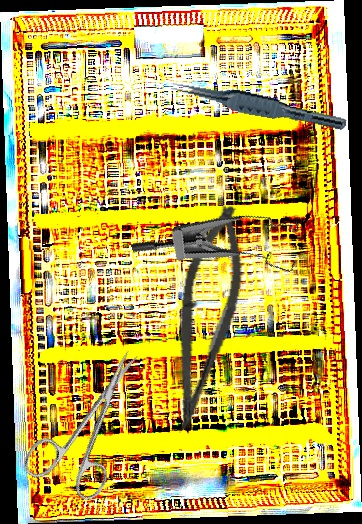Iris Scissors: (18, 333, 171, 511)
Micro Scissor: (162, 200, 253, 439)
Speculum: (130, 187, 312, 320)
Tissue Forceps: (169, 77, 349, 132)
